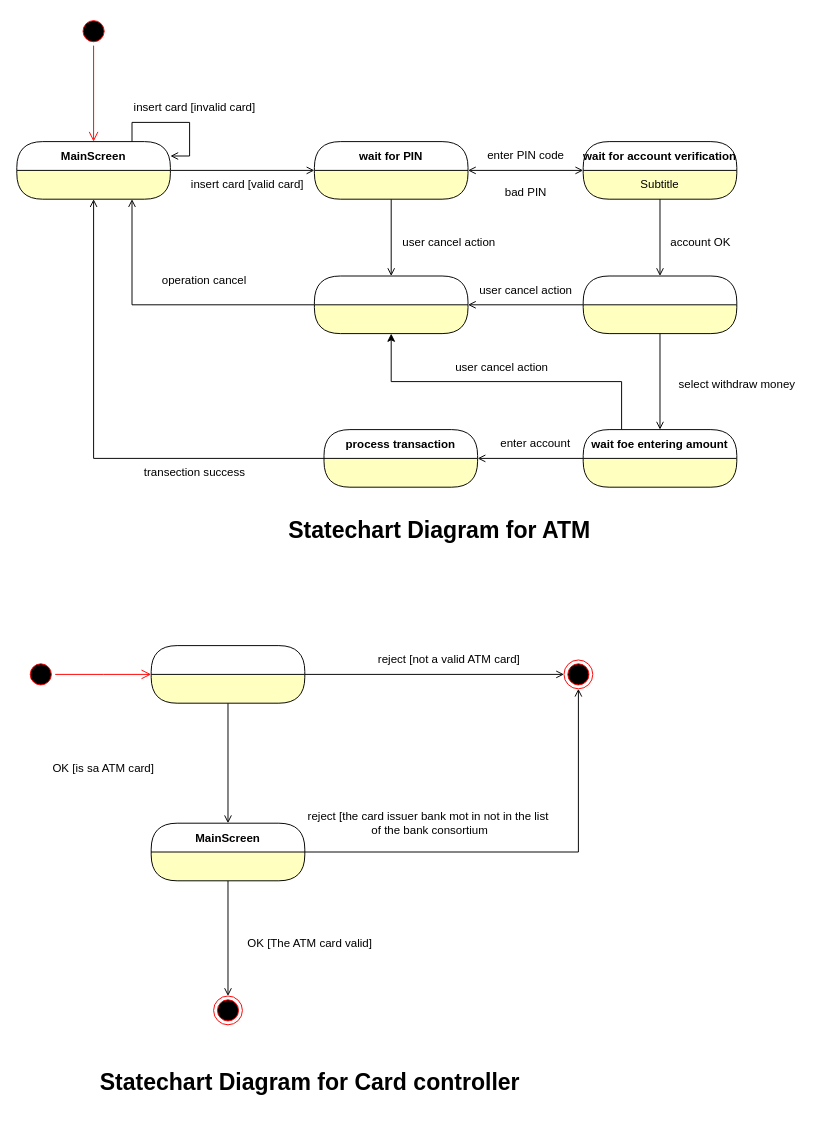
This 821x1138 diagram has some shape labels left out. Here are the shapes that lost their labels. From the top down, the centre of each, then its label:
point 390,304: Cancel
point 659,304: wait for selecting services
point 227,674: Check card type
